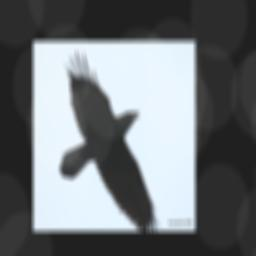Crow: (59, 47, 160, 231)
